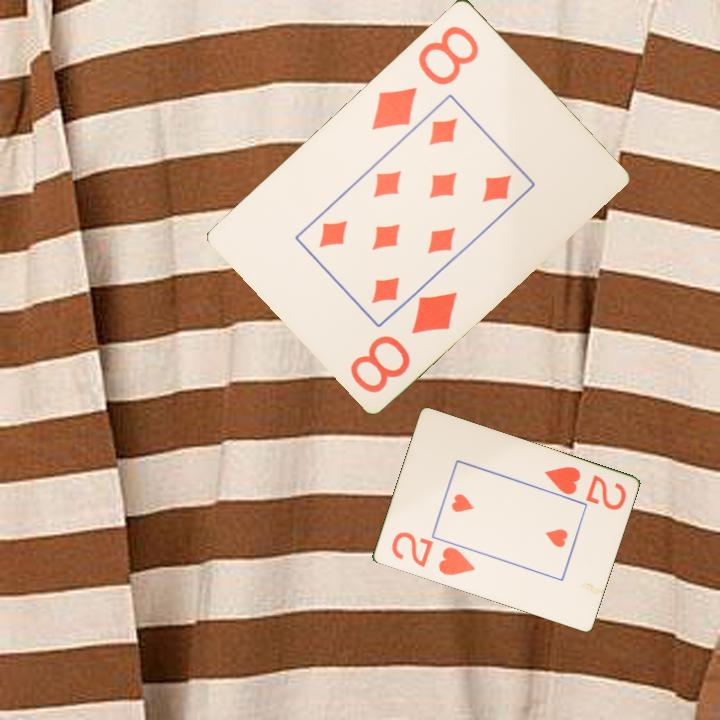2h: (387, 528, 478, 579), (541, 463, 629, 513)
8d: (368, 21, 482, 133), (346, 287, 461, 396)
